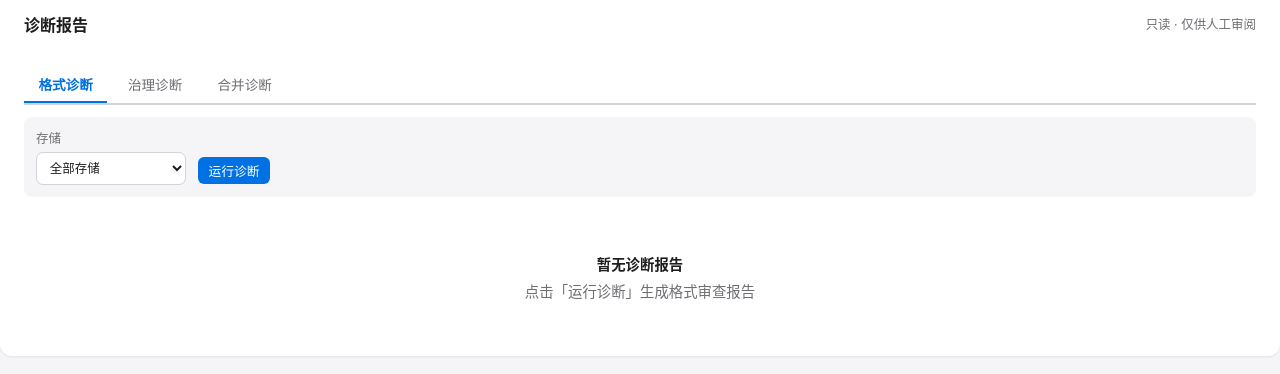
Test: DiagnosticPanel report states › shows a loading state while generating a report
Click the button "运行诊断".
click(234, 170)  # box [198,157,270,184]
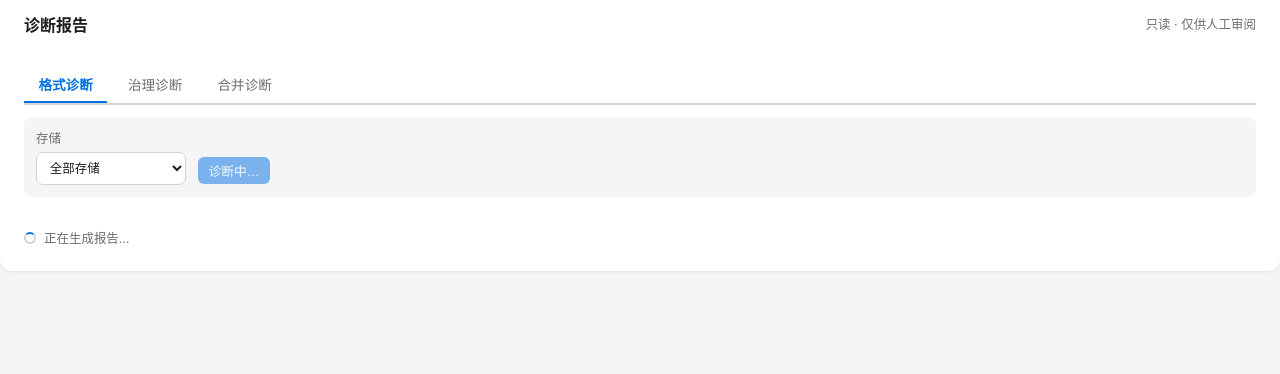
Result: the text "正在生成报告…" is shown at [44,229,130,247]
Result: the text "暂无诊断报告" is gone
